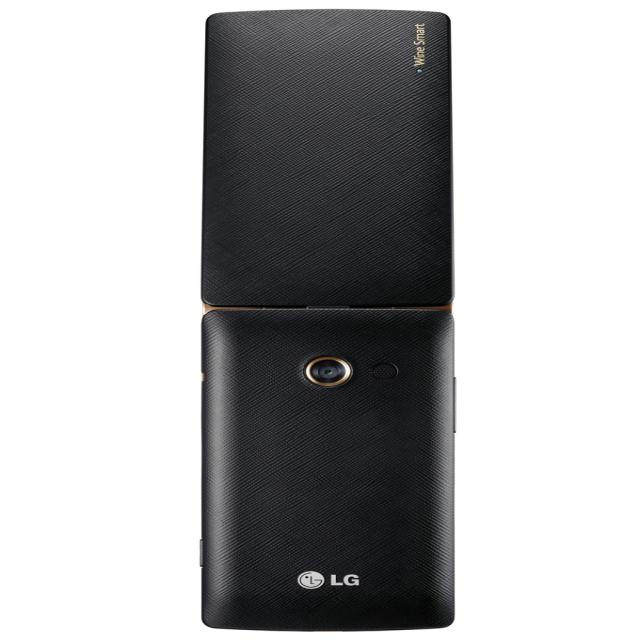Mobile-phone: (198, 312, 460, 632)
